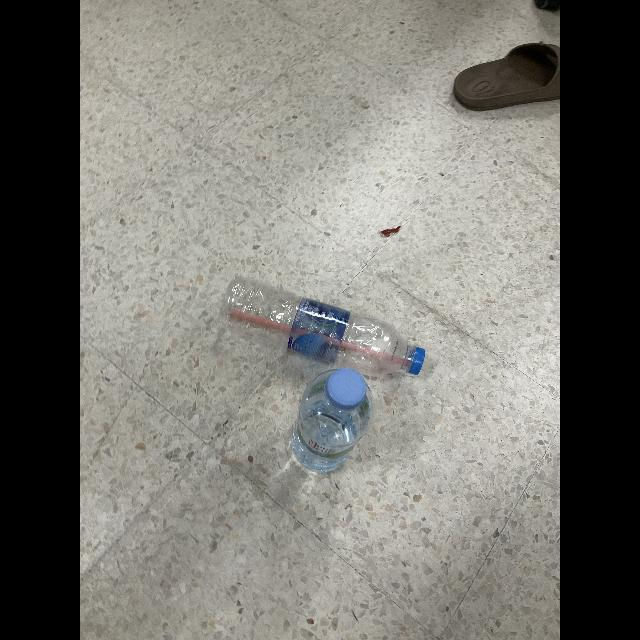plastic_bottle: (220, 277, 426, 379), (290, 369, 374, 475)
